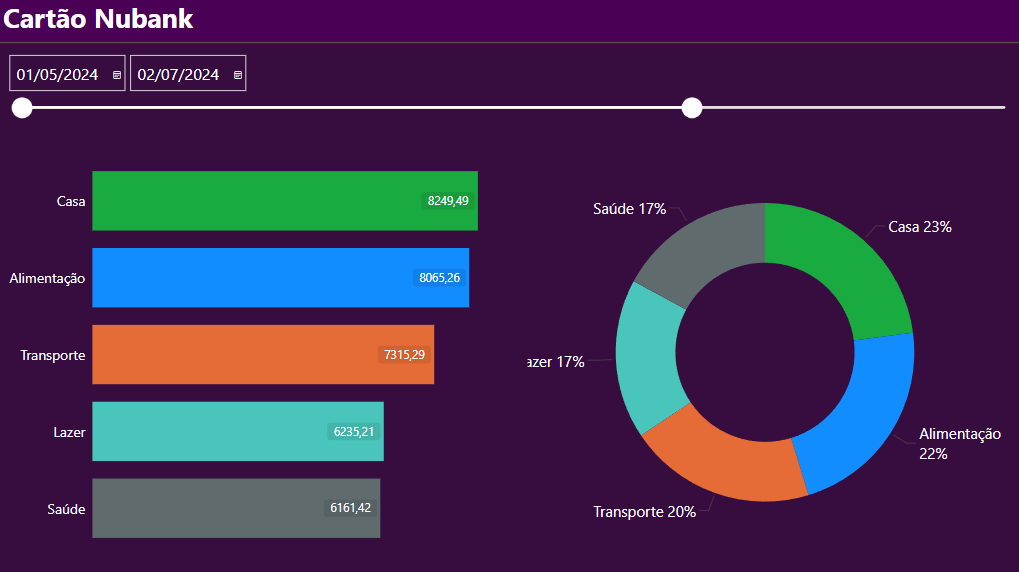

The page's visual inventory and layout, read from the dashboard file:
{"tool":"powerbi","page":{"name":"% Gastos p/Categoria","canvas":[1280,720],"ordinal":0},"visuals":[{"type":"donutChart","fields":{"Y":["Sum(BI-NU.amount)"],"Category":["BI-NU.category"]},"box":[638.6,164.3,640,555.7],"z":0},{"type":"slicer","title":"Cartão Nubank","fields":{"Values":["BI-NU.date"]},"box":[1.4,0,1278.6,164.1],"z":1000},{"type":"barChart","title":"Cartão de Crédito Nubank","fields":{"Category":["BI-NU.category"],"Y":["Sum(BI-NU.amount)"]},"box":[0,164,662,556],"z":2000}]}

Visuals, with their boxes in screenshot pixels (x1, y1, x2, y2), scaled from the page's 1280x720 canvas onto the 1019x572 screenshot:
donutChart - Sum(BI-NU.amount) x BI-NU.category: [508, 131, 1018, 571]
"Cartão Nubank" slicer: [1, 0, 1018, 130]
"Cartão de Crédito Nubank" barChart: [0, 130, 527, 571]
